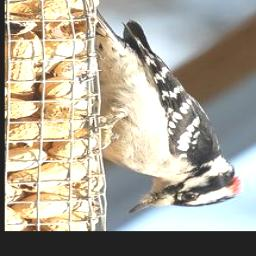Woodpecker: (86, 12, 244, 213)
